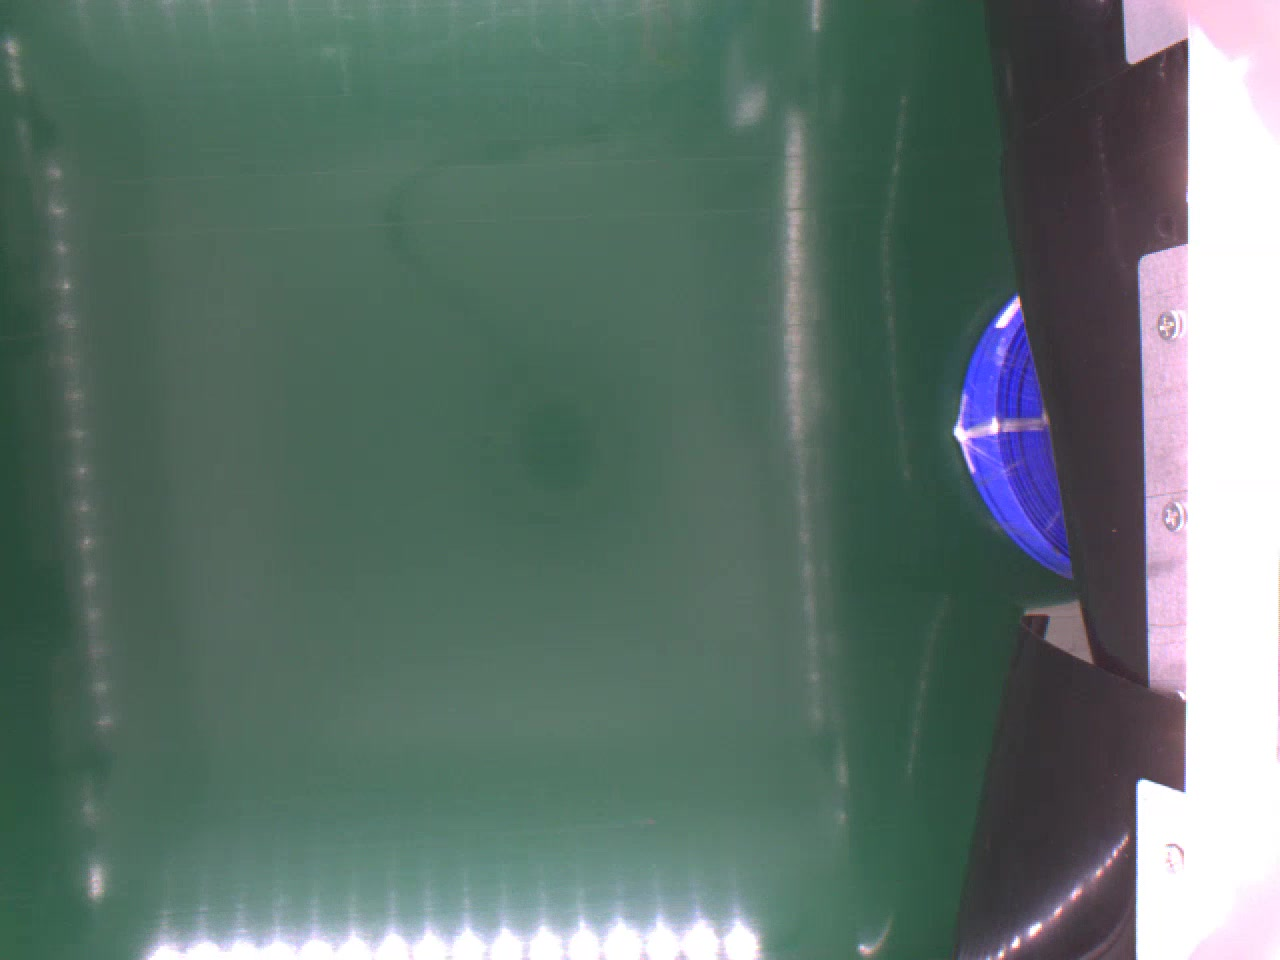blue: (957, 292, 1070, 582)
